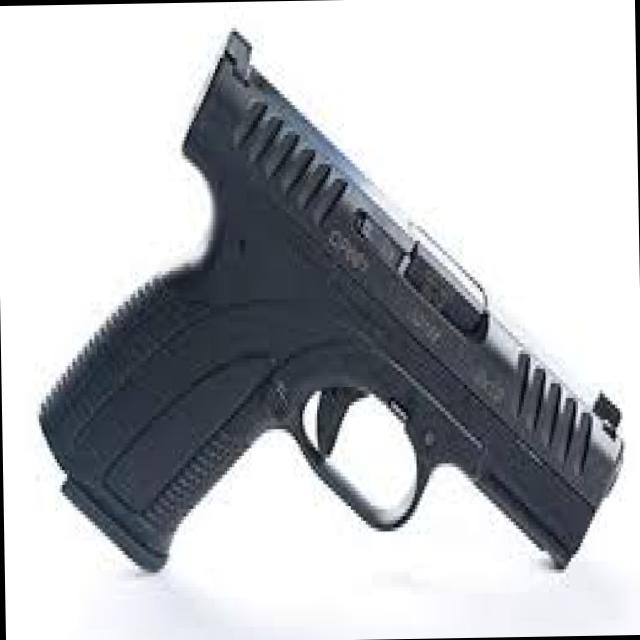Gun: (2, 0, 640, 593)
